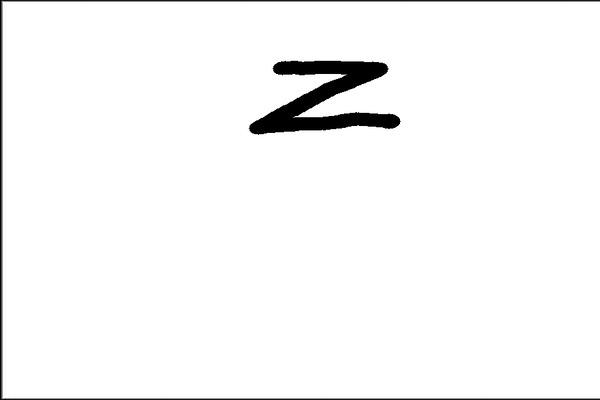Z: (241, 43, 413, 138)
